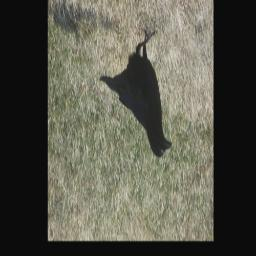Crow: (101, 31, 174, 162)
